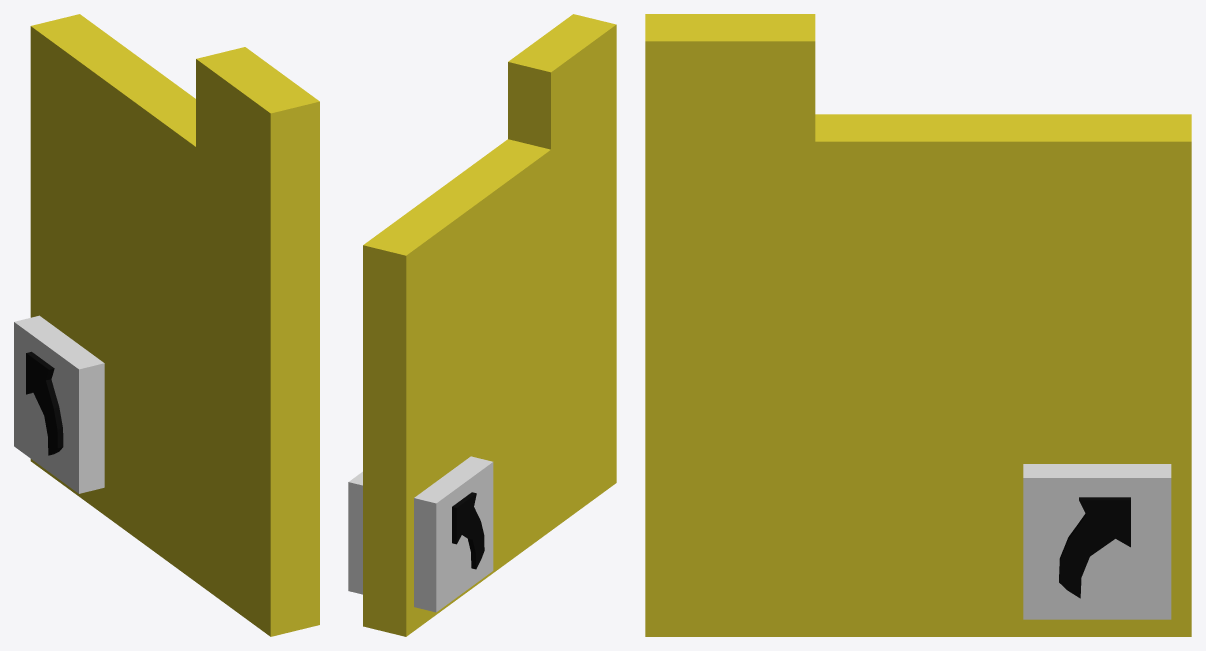
File: acceso directo 3d.fbx
3 renders of one model, left to right at view 1: azimuth 30°, elevation 25°; view 2: azimuth 150°, elevation 25°; view 3: azimuth 270°, elevation 25°, orthographic. The views are drawn at different scales.
Parts seen in each view (by area): view 1: Cube; view 2: Cube; view 3: Cube.
Boxes of the visible parts, x1,y1,x2,y2 form: Cube: [14, 14, 319, 636]; Cube: [348, 14, 616, 636]; Cube: [645, 14, 1191, 636].
Size of the model in its own units: 53.64 by 241 by 200.
